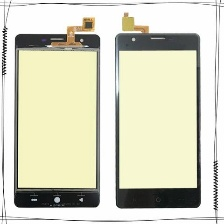phone: (112, 28, 205, 211), (10, 29, 104, 210)
